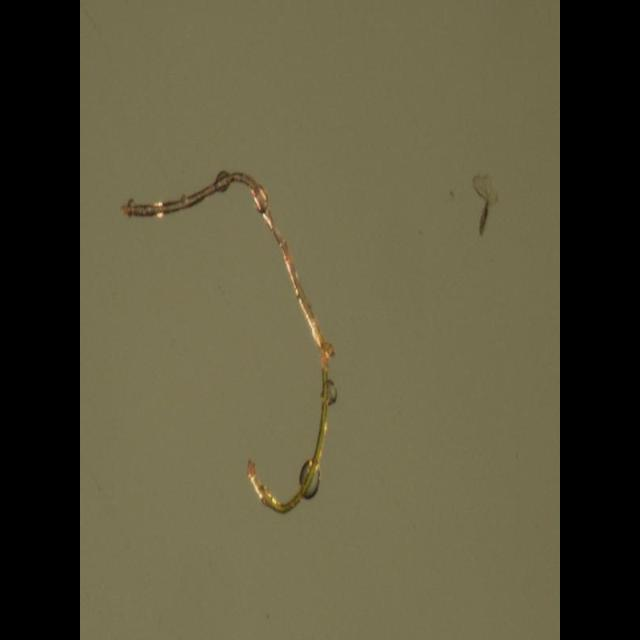Fibre: (120, 170, 338, 516)
